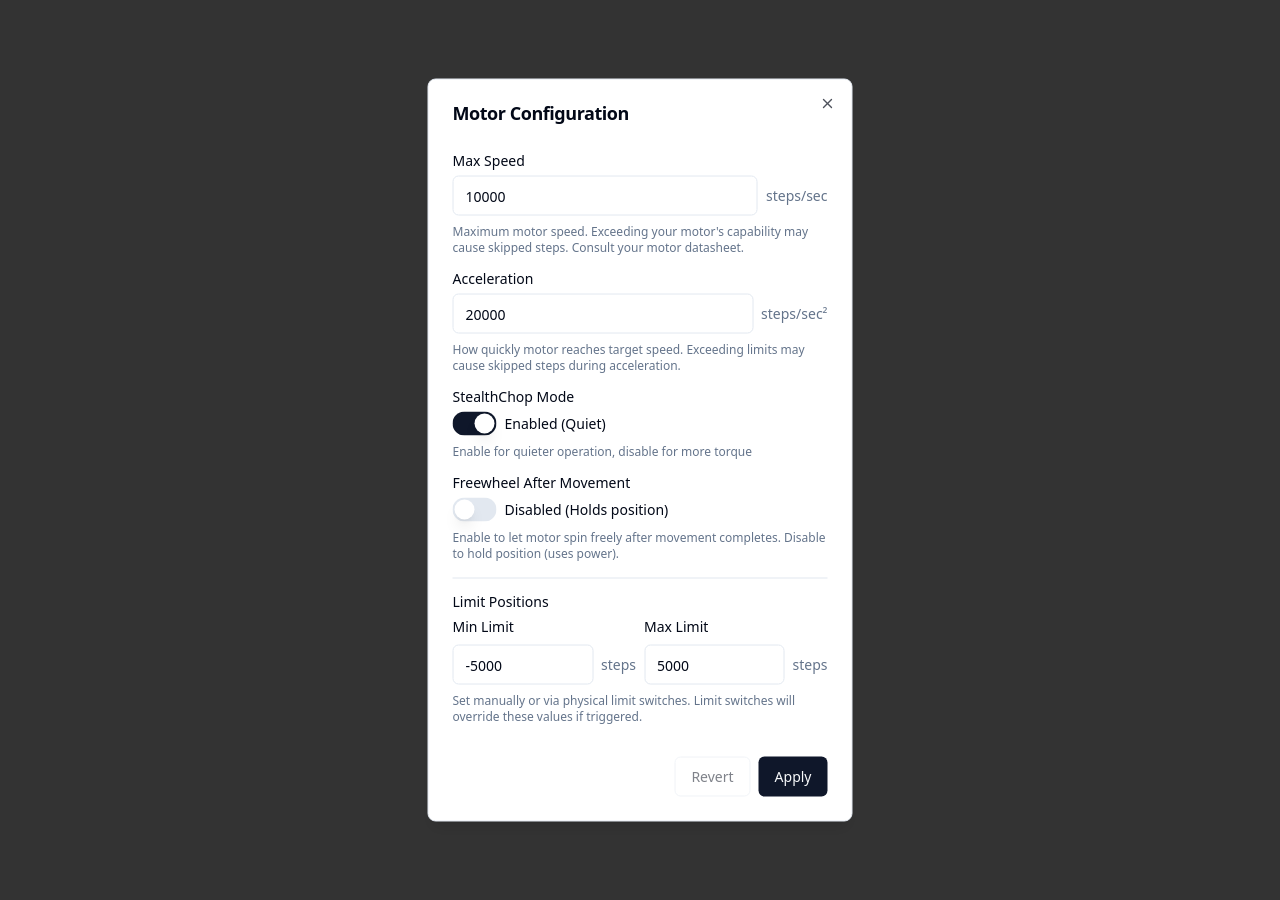
Test case: MotorConfigDialog - Revert Functionality › should revert changes when revert button clicked
Replace the text in the number field labelled "Max Speed" with "12000" at (605, 196), box [452,176,758,216]
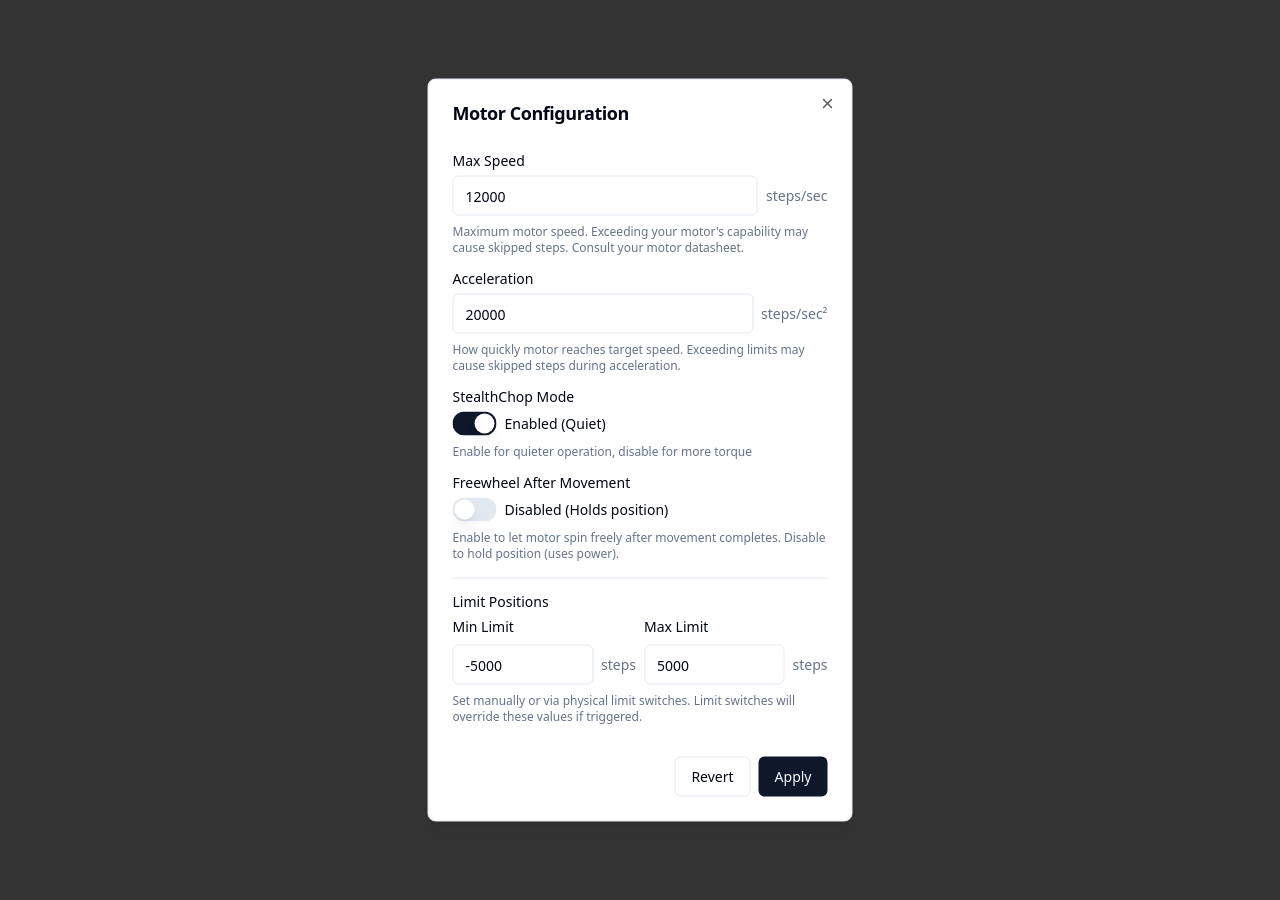
Click the button "Revert" at (712, 776), box [674,756,751,796]
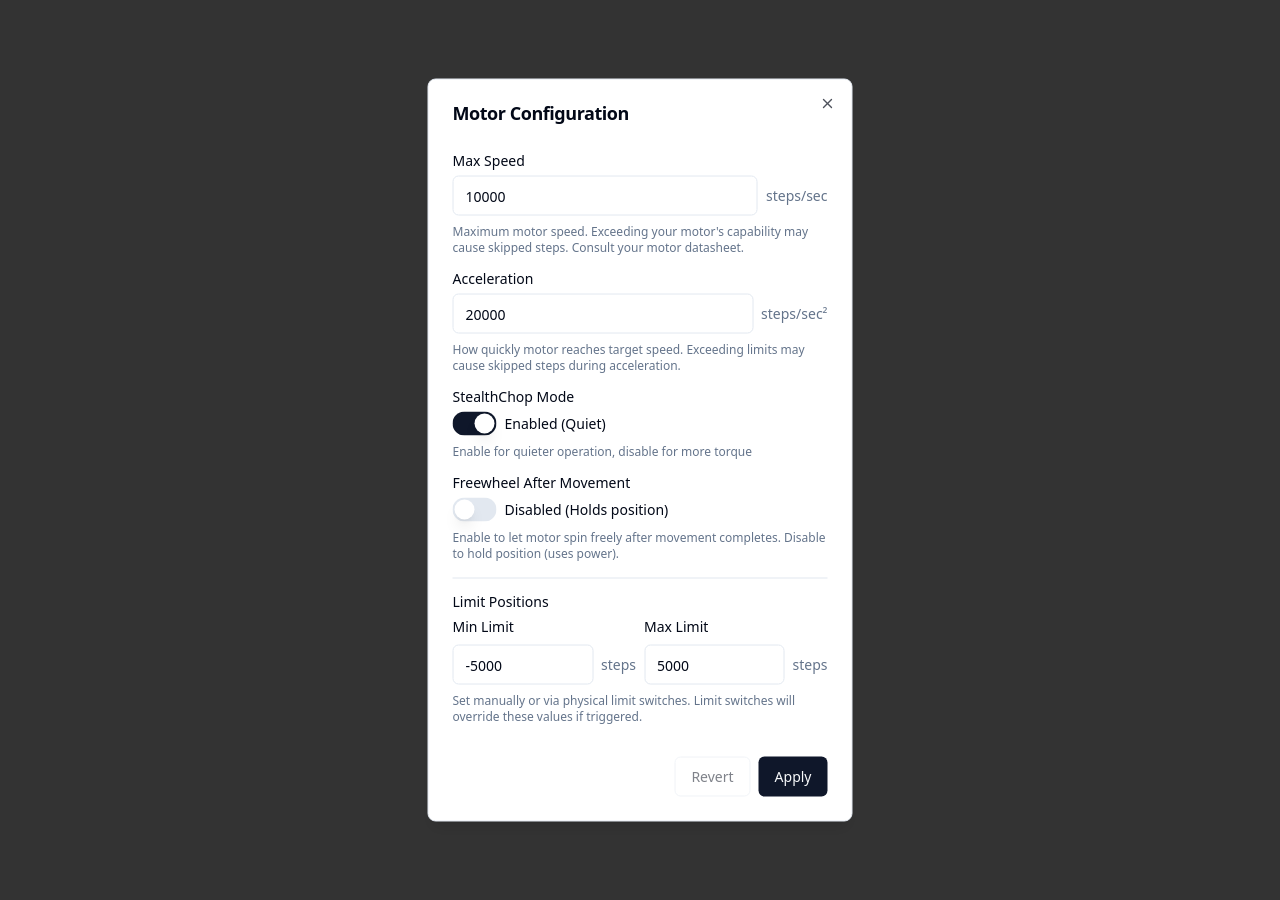
Expected: the number field labelled "Max Speed" holds "10000", [452,176,758,216]
